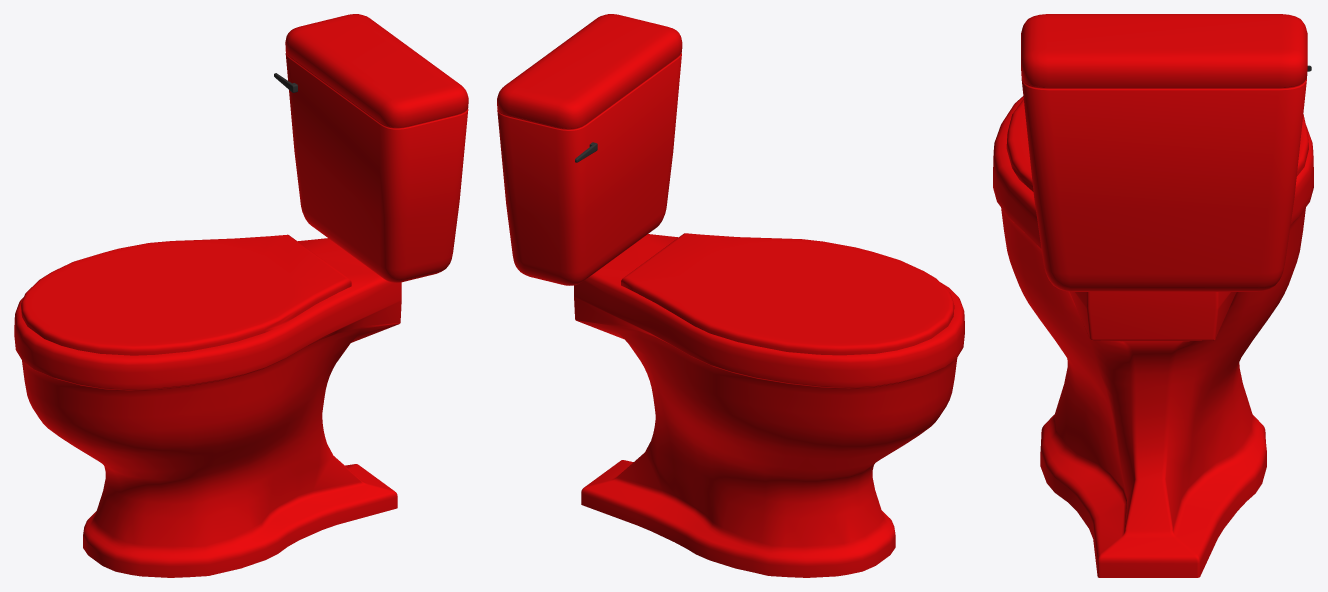
File: (Msh)Toilet.fbx
3 renders of one model, left to right at view 1: azimuth 30°, elevation 25°; view 2: azimuth 150°, elevation 25°; view 3: azimuth 270°, elevation 25°, orthographic. The views are drawn at different scales.
Parts seen in each view (by area): view 1: toilet_body, toilet_lid; view 2: toilet_body, toilet_lid; view 3: toilet_body, toilet_lid.
Boxes of the visible parts, x1,y1,x2,y2 form: toilet_body: (14,14,468,577); toilet_lid: (21,234,351,355); toilet_body: (497,14,964,577); toilet_lid: (621,233,954,355); toilet_body: (993,14,1313,577); toilet_lid: (1006,99,1308,191).
Bounding box in the file's own units: 104 × 108 × 57.57.
